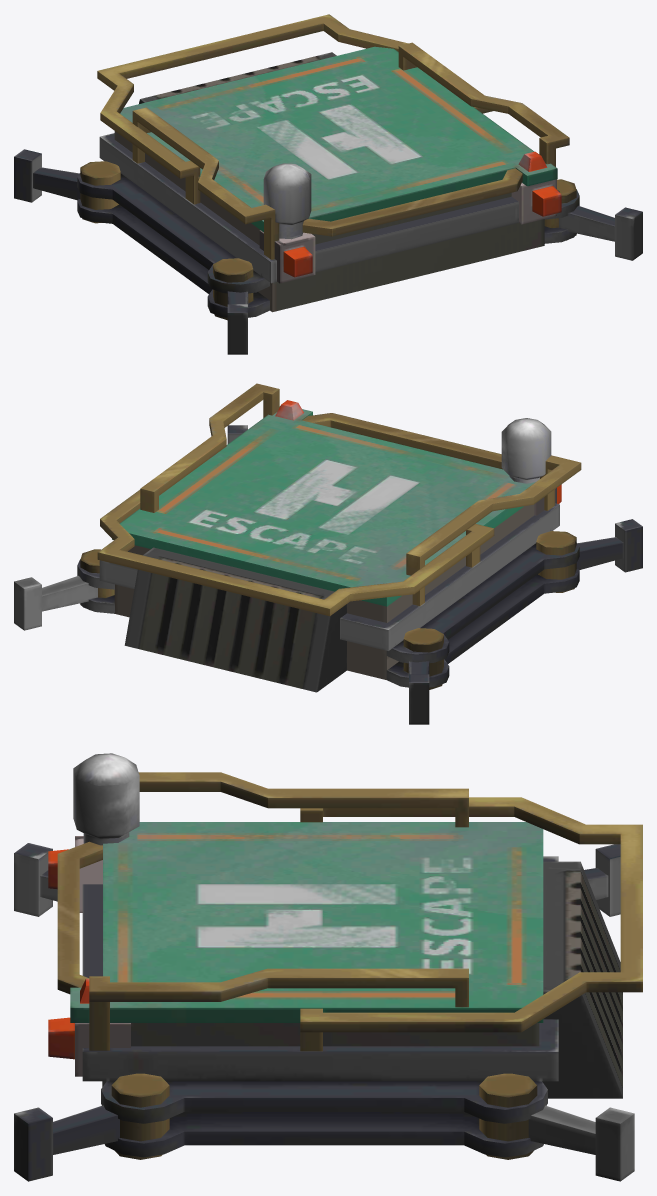
File: S_survive_escape.fbx
The picture shows the model from 3 angles, top to bottom: view 1: azimuth 30°, elevation 25°; view 2: azimuth 150°, elevation 25°; view 3: azimuth 270°, elevation 25°; orthographic projection. The views are drawn at different scales.
Parts seen in each view (by area): view 1: S_survive_escape; view 2: S_survive_escape; view 3: S_survive_escape.
Part boxes in pixels (bbox=[...]): S_survive_escape: bbox=[14, 14, 642, 354]; S_survive_escape: bbox=[14, 383, 642, 724]; S_survive_escape: bbox=[14, 753, 642, 1181].
Bounding box in the file's own units: 1.07 × 0.3604 × 1.01.
1 material, 1 textured.
